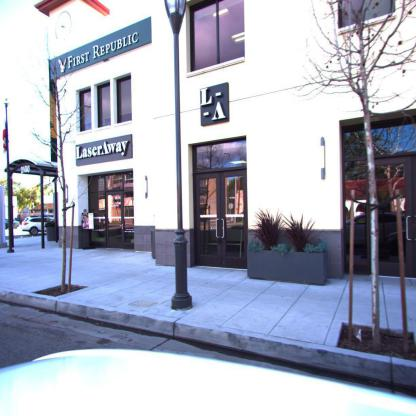car: (20, 216, 54, 236)
